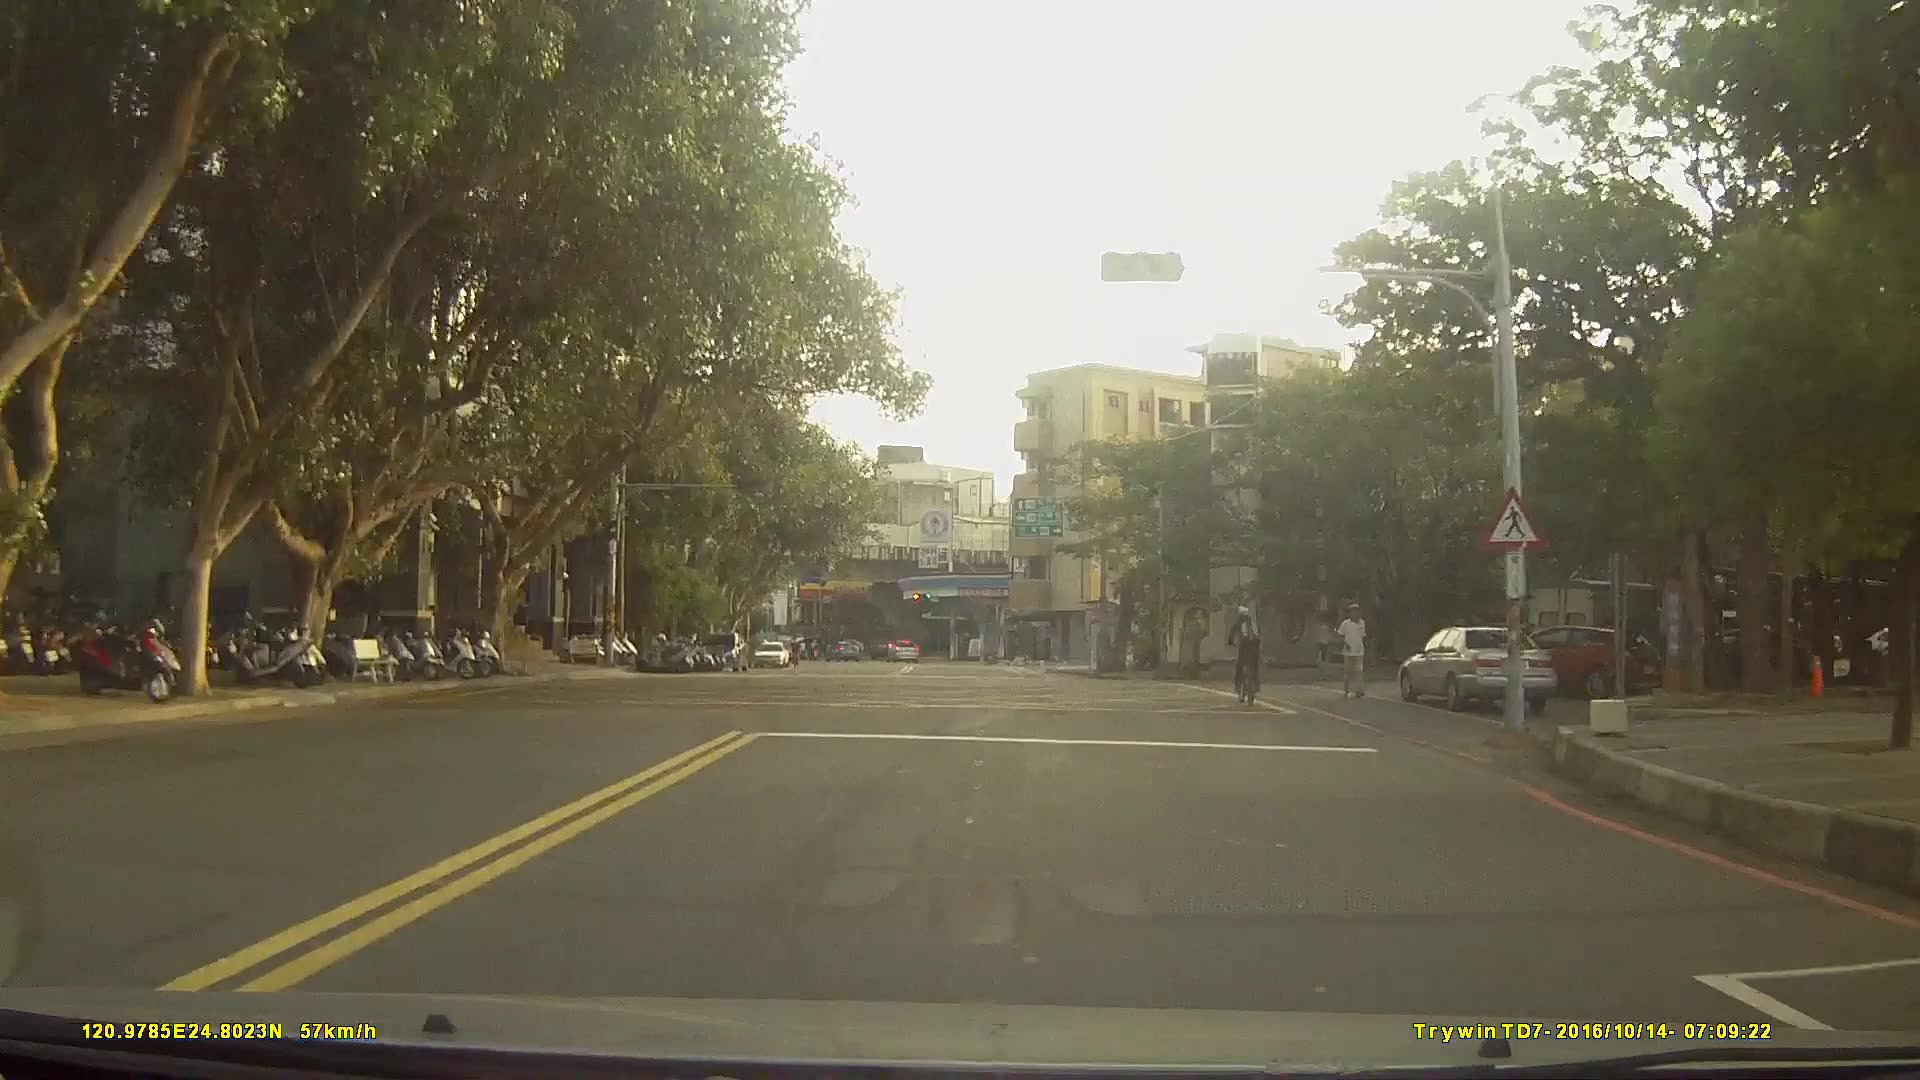pedestrian: (1335, 599, 1374, 706), (511, 607, 531, 649)
rider: (1224, 607, 1268, 708)
vehicle: (1399, 623, 1556, 711), (1492, 623, 1633, 697), (695, 631, 749, 673), (753, 637, 789, 669), (884, 635, 917, 660)
